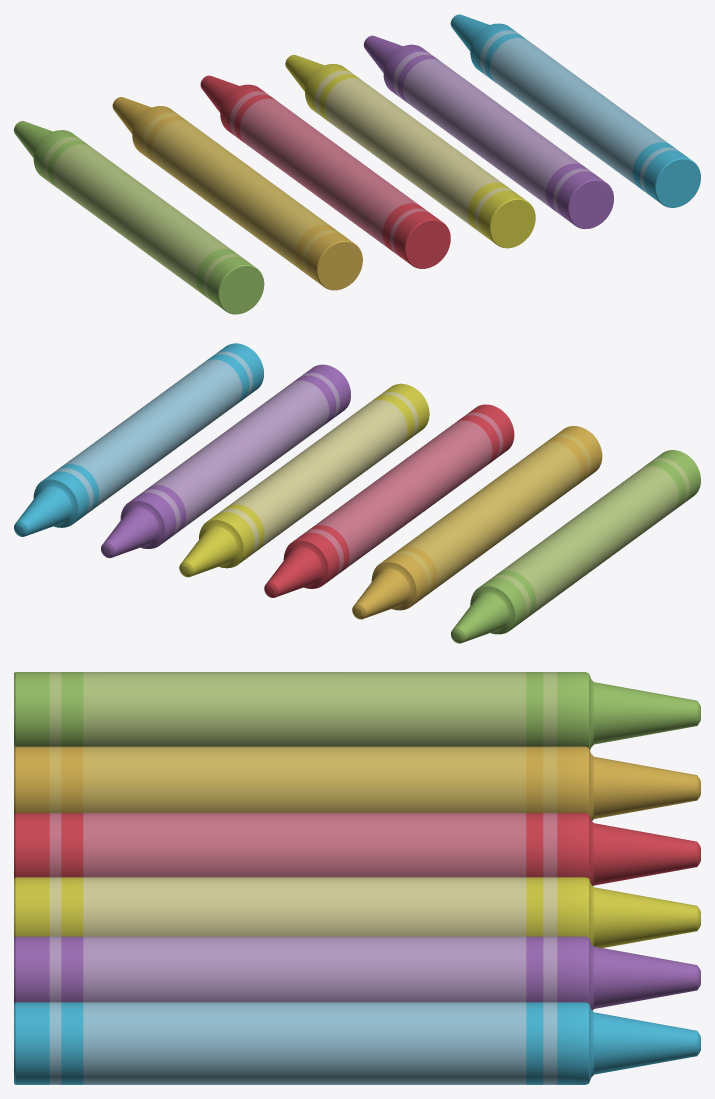
The model's file is crayons.fbx.
3 renders of one model, top to bottom at view 1: azimuth 30°, elevation 25°; view 2: azimuth 150°, elevation 25°; view 3: azimuth 270°, elevation 25°, orthographic. The views are drawn at different scales.
Visible parts, largest first — view 1: crayonRed, crayonGreen, crayonOrange, crayonYellow, crayonBlue, crayonPurple; view 2: crayonOrange, crayonRed, crayonYellow, crayonGreen, crayonBlue, crayonPurple; view 3: crayonBlue, crayonGreen, crayonOrange, crayonPurple, crayonRed, crayonYellow.
Part boxes in pixels (<box>): crayonRed: <box>200,75,450,268</box>; crayonGreen: <box>14,121,264,314</box>; crayonOrange: <box>112,97,362,290</box>; crayonYellow: <box>285,54,535,248</box>; crayonBlue: <box>450,14,700,207</box>; crayonPurple: <box>363,35,613,228</box>; crayonOrange: <box>352,426,602,619</box>; crayonRed: <box>264,404,514,597</box>; crayonYellow: <box>179,383,429,577</box>; crayonGreen: <box>451,450,700,643</box>; crayonBlue: <box>14,343,263,536</box>; crayonPurple: <box>101,364,350,558</box>; crayonBlue: <box>14,1002,700,1084</box>; crayonGreen: <box>14,672,700,749</box>; crayonOrange: <box>14,746,700,820</box>; crayonPurple: <box>14,936,700,1010</box>; crayonRed: <box>14,813,700,885</box>; crayonYellow: <box>14,877,700,947</box>.
Size of the model in its own units: 223 by 178 by 21.39.
